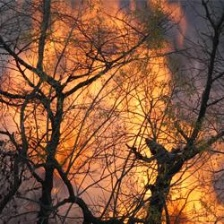fire: (42, 23, 171, 171)
